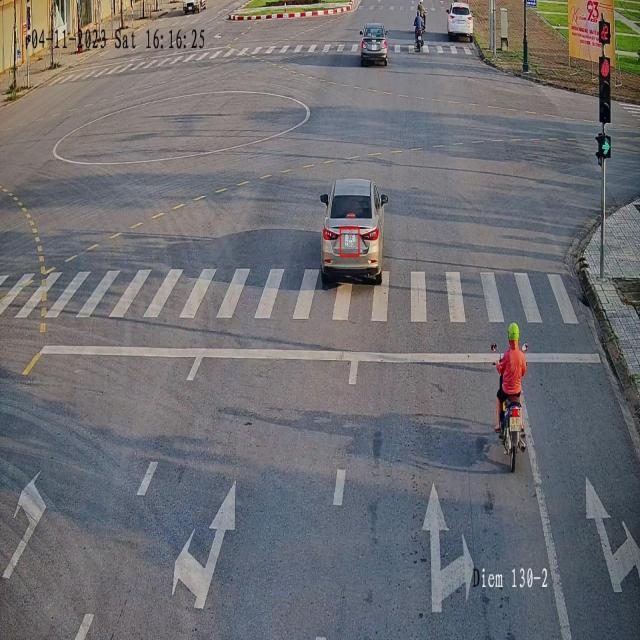Red: (598, 21, 611, 121)
